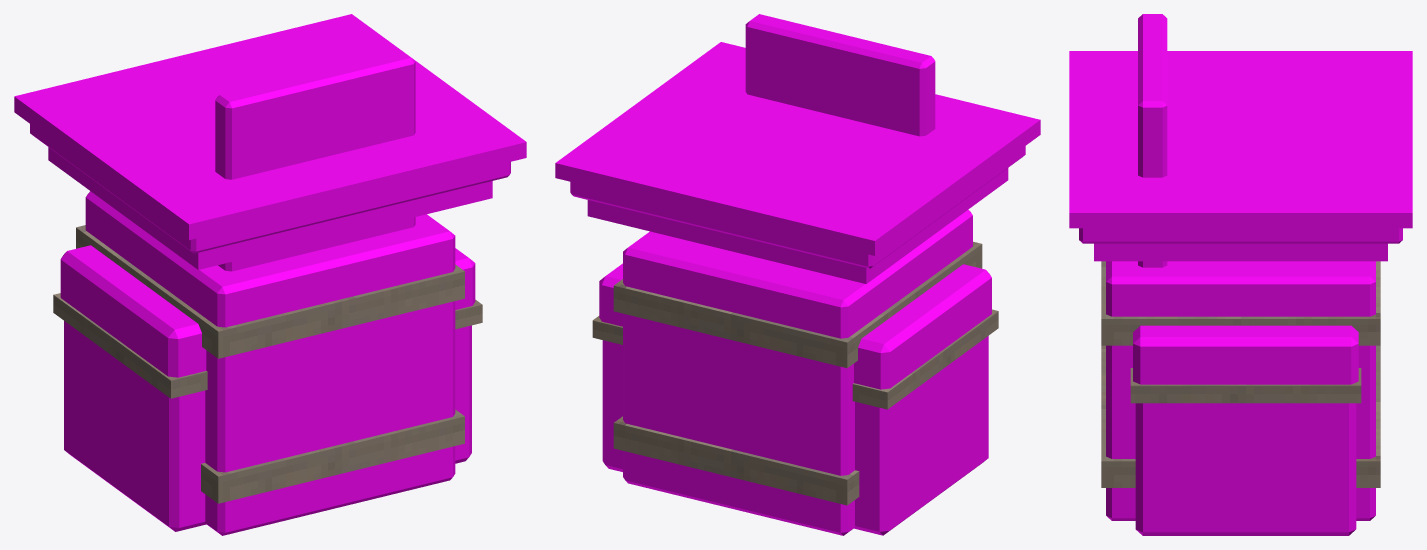
Rendered from props.glb.
The picture shows the model from 3 angles, left to right: view 1: azimuth 30°, elevation 25°; view 2: azimuth 150°, elevation 25°; view 3: azimuth 270°, elevation 25°; orthographic projection. The views are drawn at different scales.
Parts seen in each view (by area): view 1: crate, dining_table, lockbox, dining_chair; view 2: crate, dining_table, lockbox, dining_chair; view 3: dining_table, lockbox, crate, dining_chair.
Boxes of the visible parts, <box> form: crate: <box>76,191,464,535</box>; dining_table: <box>14,14,526,269</box>; lockbox: <box>53,245,482,531</box>; dining_chair: <box>215,50,415,271</box>; crate: <box>613,209,982,535</box>; dining_table: <box>555,42,1040,283</box>; lockbox: <box>592,263,998,535</box>; dining_chair: <box>745,14,935,136</box>; dining_table: <box>1069,51,1412,261</box>; lockbox: <box>1130,325,1361,535</box>; crate: <box>1101,261,1380,520</box>; dining_chair: <box>1138,14,1167,267</box>.
Size of the model in its own units: 0.78 by 0.92 by 0.7.
1 material, 1 textured.
